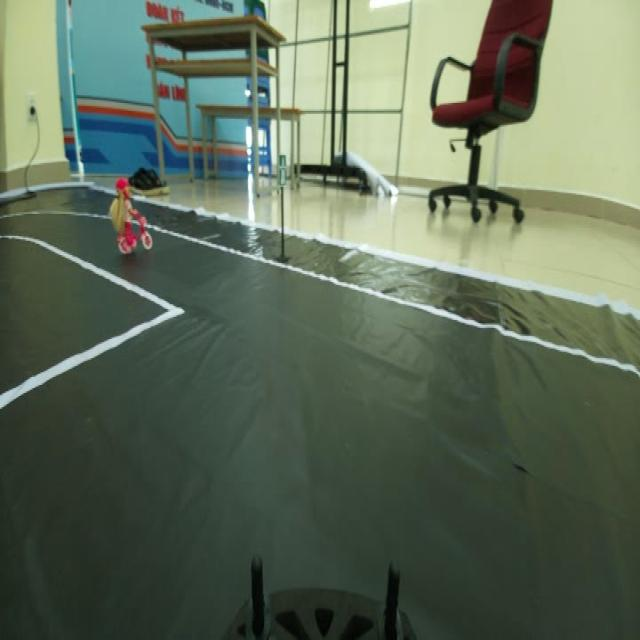pedestrian: (103, 173, 165, 261)
